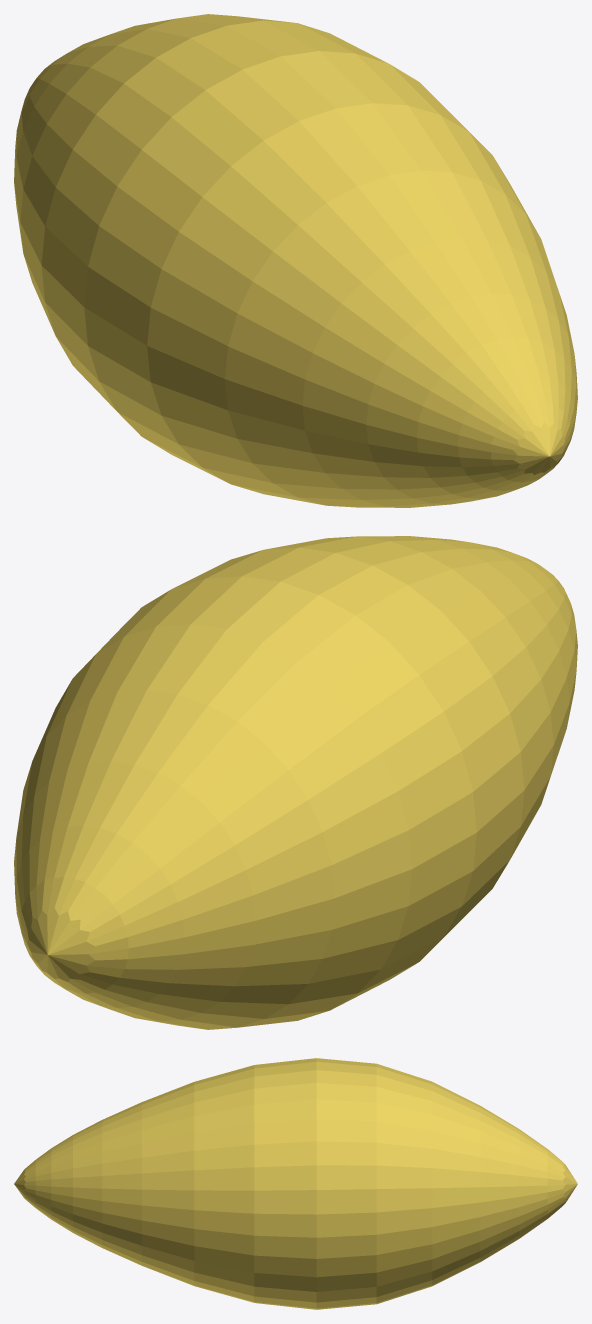
The model's file is Bullet.fbx.
3 views of the same model, one above another, from view 1: azimuth 30°, elevation 25°; view 2: azimuth 150°, elevation 25°; view 3: azimuth 270°, elevation 25° (orthographic). The views are drawn at different scales.
Visible parts, largest first — view 1: Bullet; view 2: Bullet; view 3: Bullet.
Part boxes in pixels (x1,y1,x2,y2): Bullet: (14,14,577,507); Bullet: (14,536,577,1029); Bullet: (14,1058,577,1309).
Size of the model in its own units: 1.51 by 1.5 by 3.35.
